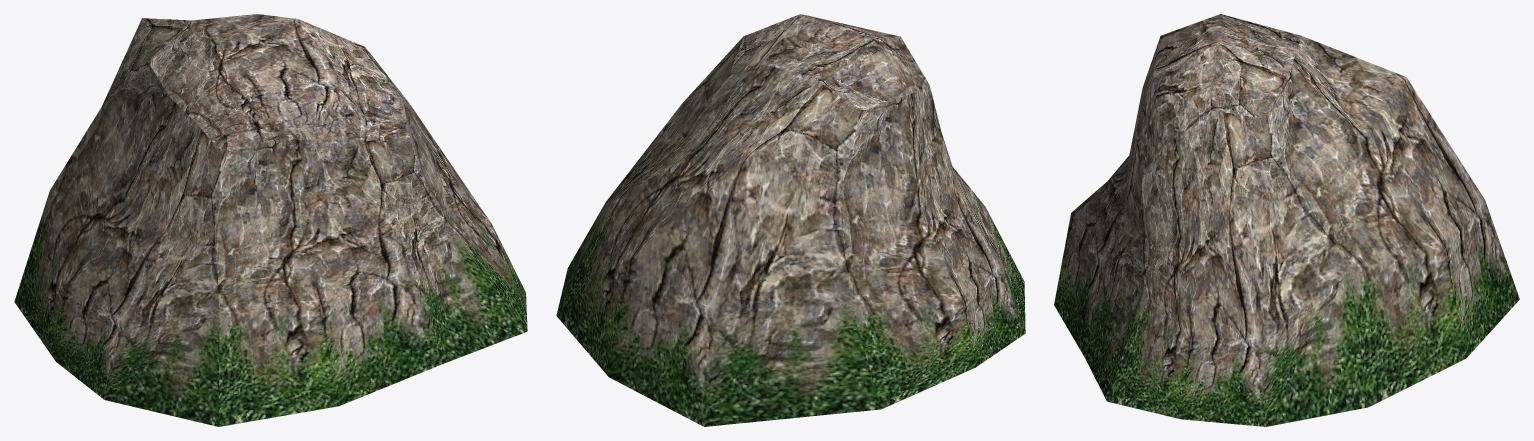
The model's file is rock04.glb.
3 views of the same model, side by side, from view 1: azimuth 30°, elevation 25°; view 2: azimuth 150°, elevation 25°; view 3: azimuth 270°, elevation 25° (orthographic). The views are drawn at different scales.
Visible parts, largest first — view 1: rock04; view 2: rock04; view 3: rock04.
Part boxes in pixels (box(x1,y1,x2,y2)): rock04: box(14, 14, 527, 426); rock04: box(556, 14, 1025, 426); rock04: box(1054, 14, 1519, 426).
Bounding box in the file's own units: 6.36 × 4.25 × 6.35.
Materials: 2 (2 with a texture image).
